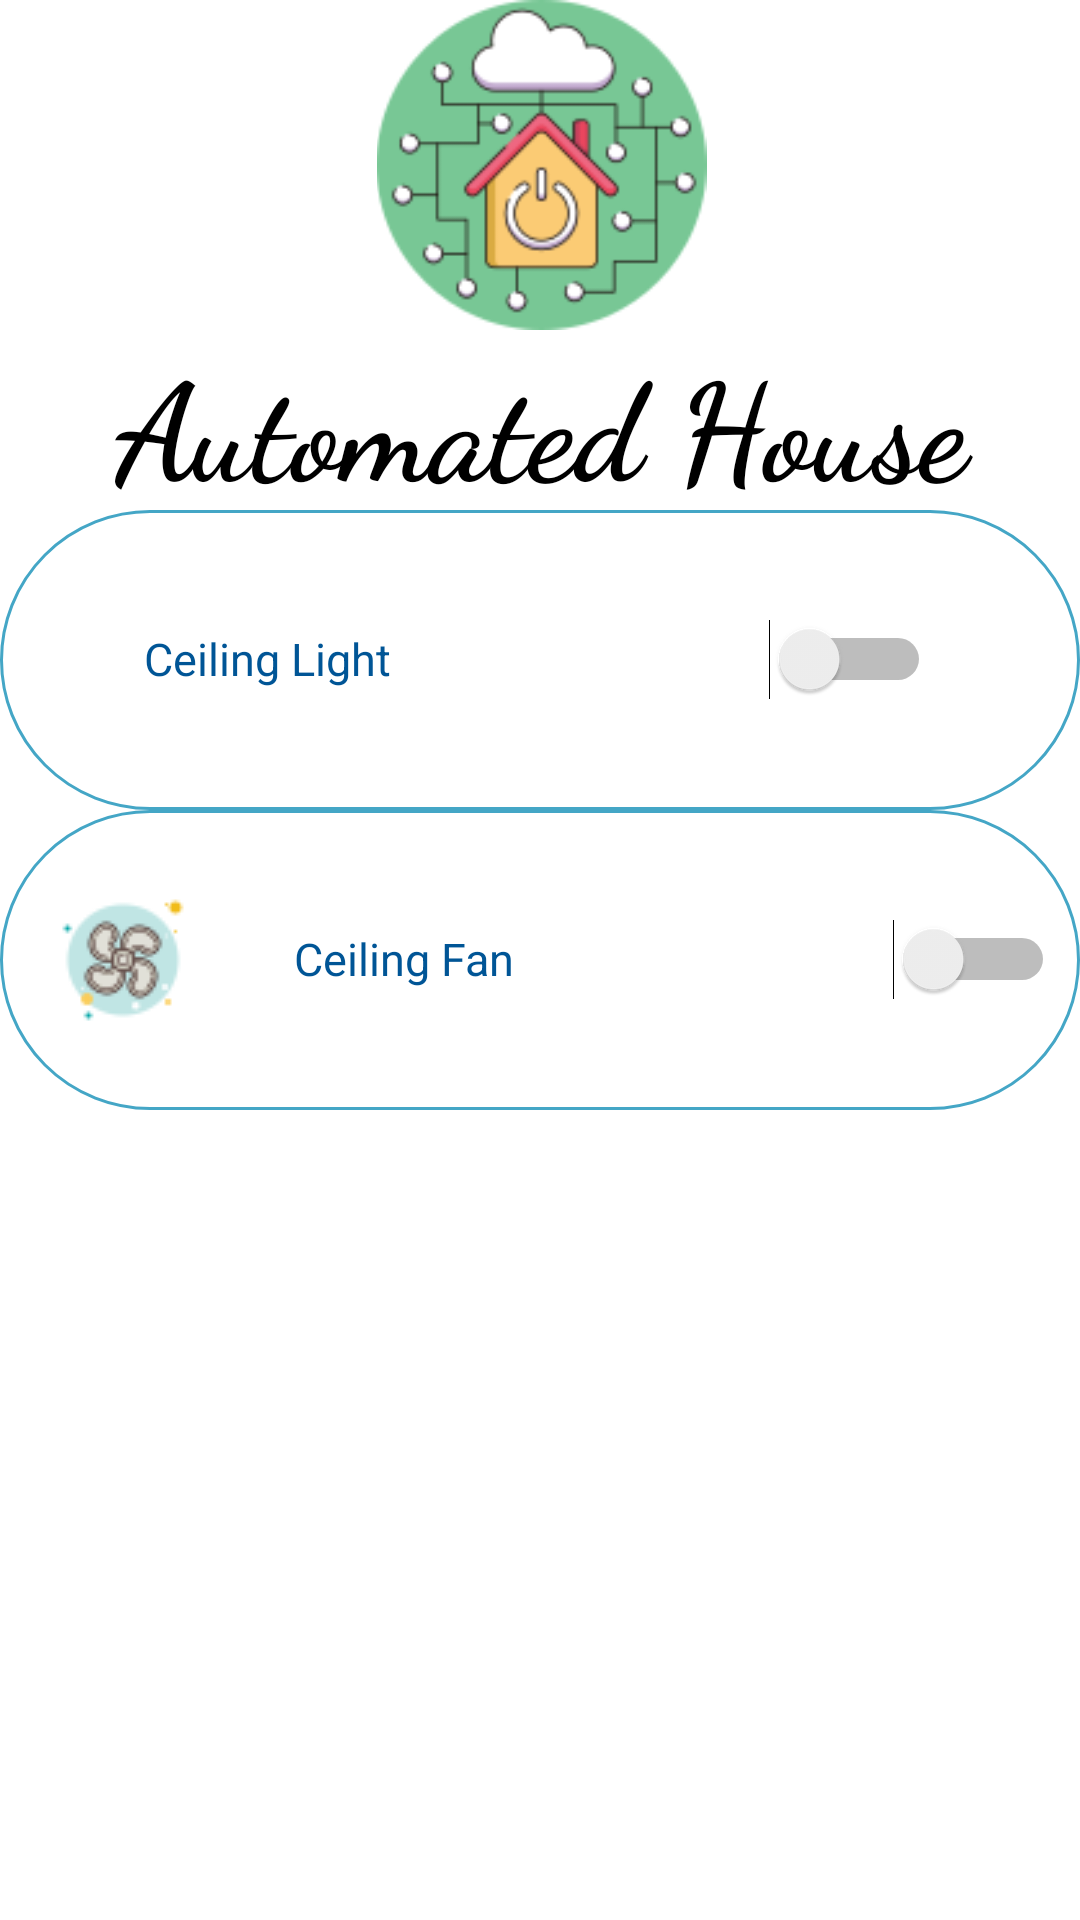

Point at icon controls on the screen. Image size 1080x1920, points as (x,y).
rooffan: (123,960)
smarthome: (542,165)
